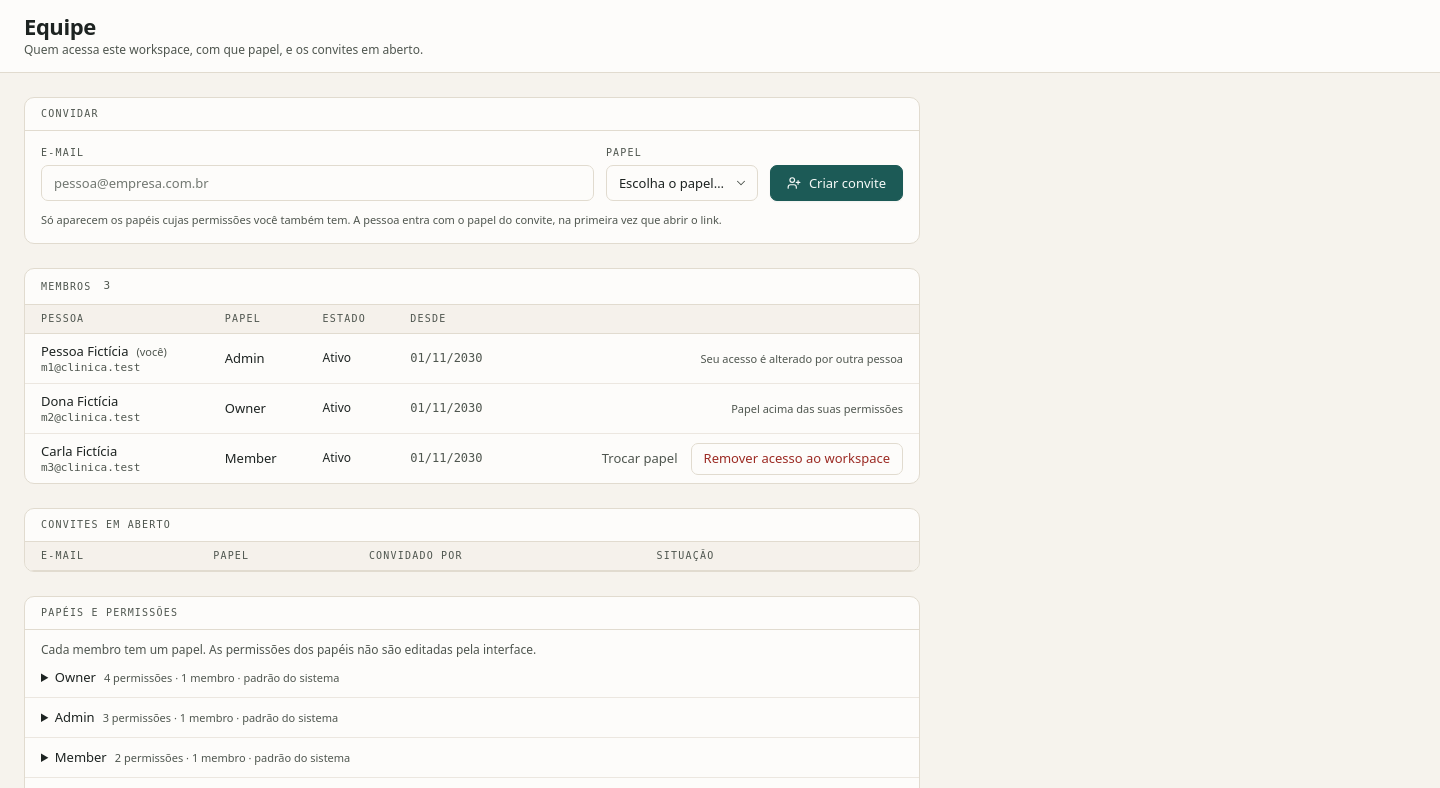
Test: quem administra a equipe › o convite criado mostra o link uma vez, com o token no fragmento
The width and height of the screenshot is (1440, 788).
Type "recepcao@clinica.test" into the field named "E-mail do convite".
click(317, 183); type("recepcao@clinica.test")  # box [41,165,594,201]
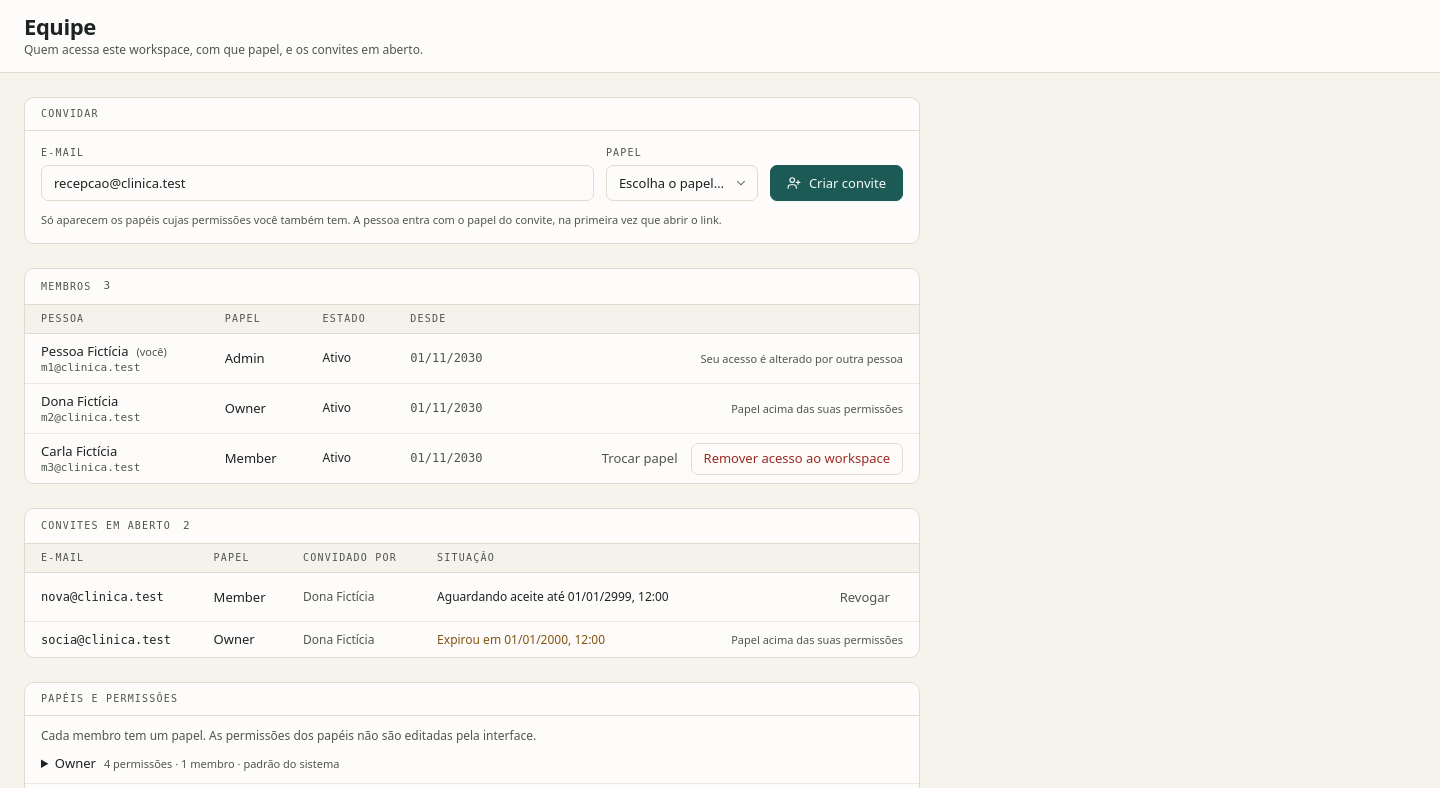
Select "Member" in the dropdown named "Papel do convite" at (682, 183), box [606,165,758,201]
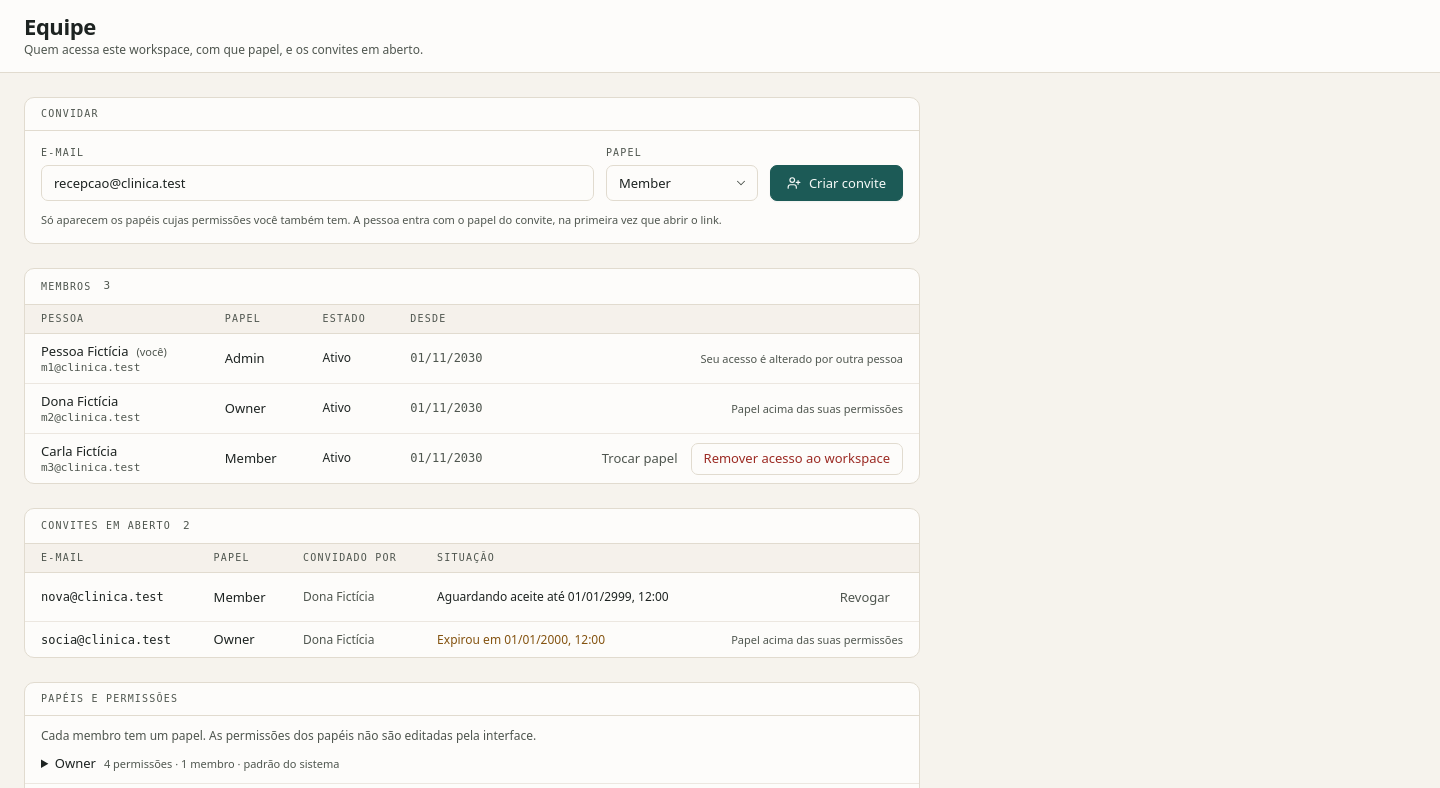
Click the button "Criar convite".
click(836, 183)  # box [770,165,903,201]
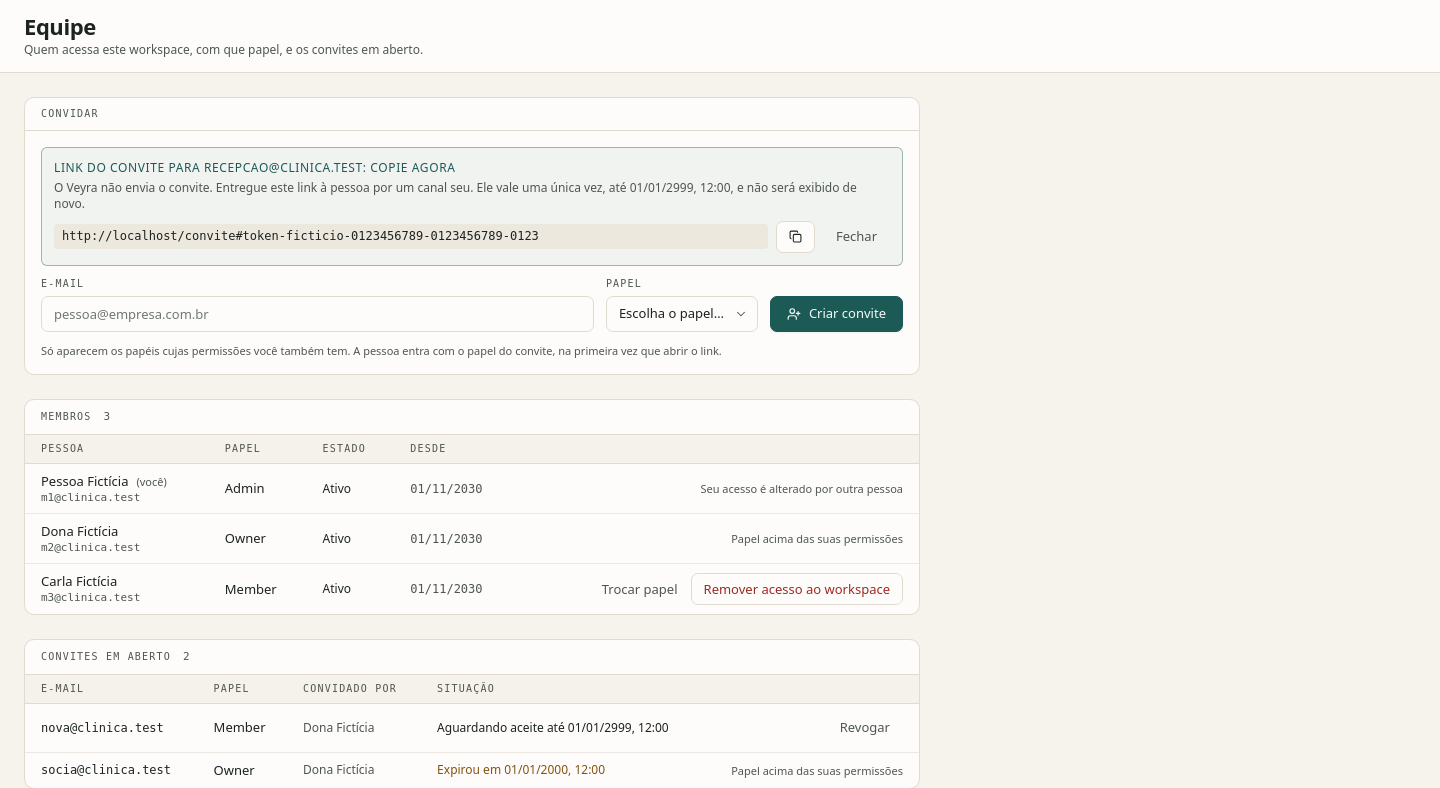
Check: the element with test id "link-do-convite" shows "O Veyra não envia o convite.", box [54,179,630,196]
Click the button "Fechar".
click(856, 236)  # box [823,220,890,252]
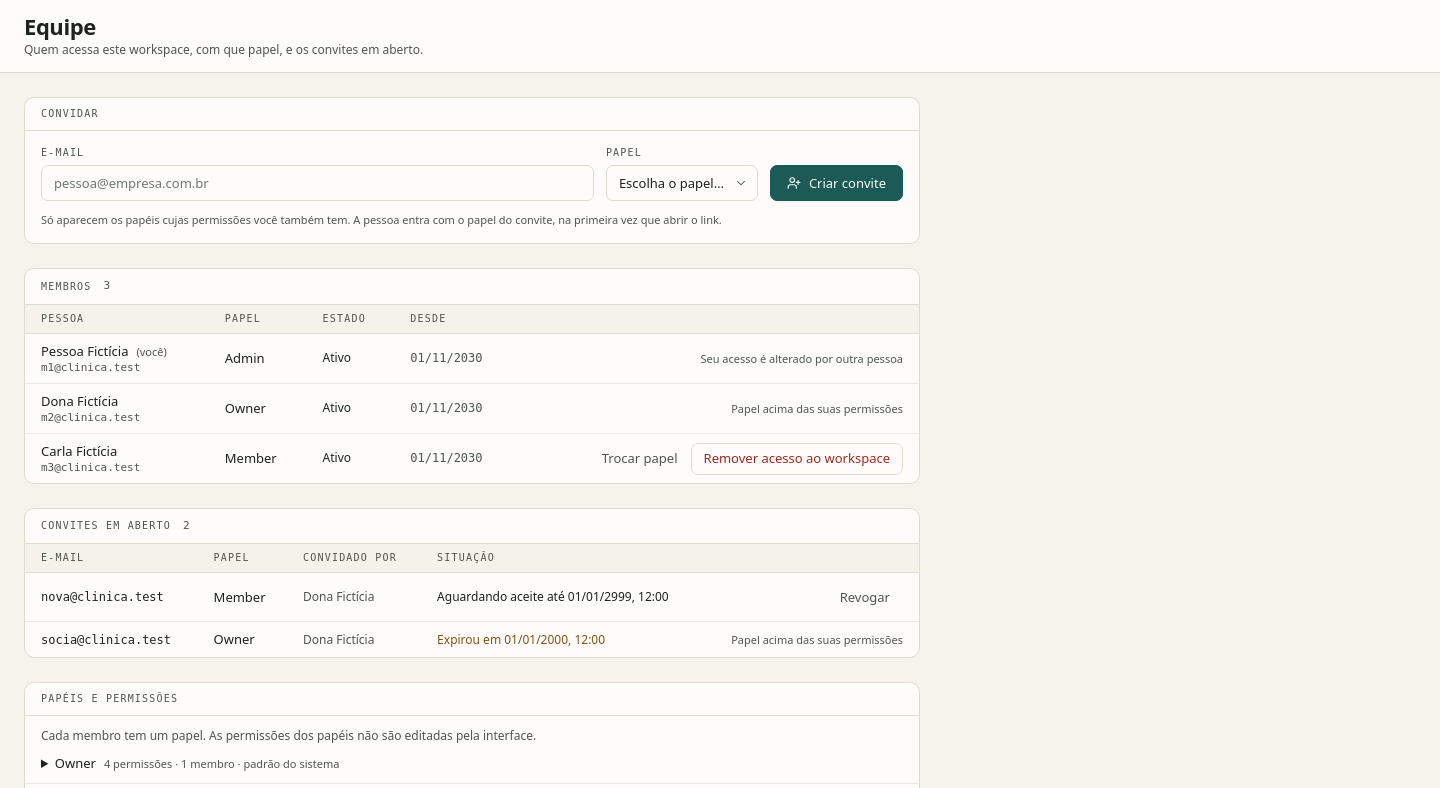
Check: the element with test id "link-do-convite" is gone
Check: the text "token-ficticio" is gone
